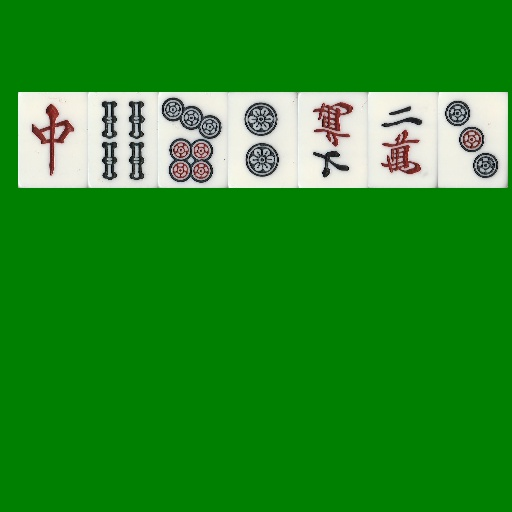2m: (368, 92, 438, 188)
2p: (228, 92, 298, 188)
3p: (438, 92, 508, 188)
4s: (88, 92, 158, 188)
7m: (298, 92, 368, 188)
7p: (158, 92, 228, 188)
tyun: (18, 92, 88, 188)
